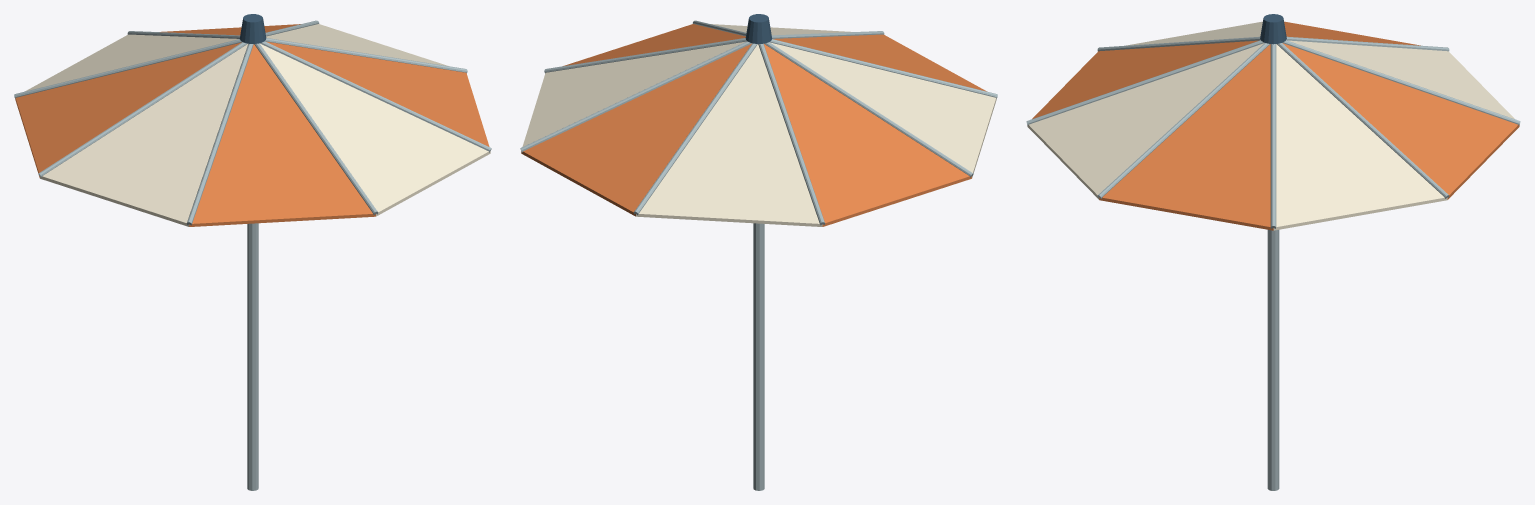
Rendered from harbor-and-tackle-fishing-umbrella-53ccf80c.glb.
3 views of the same model, side by side, from view 1: azimuth 30°, elevation 25°; view 2: azimuth 150°, elevation 25°; view 3: azimuth 270°, elevation 25° (orthographic).
Parts seen in each view (by area): view 1: ivory, orange, metal, navy; view 2: orange, ivory, metal, navy; view 3: orange, ivory, metal, navy.
Part boxes in pixels (x1,y1,x2,y2): ivory: (25, 24, 490, 226); orange: (15, 24, 489, 226); metal: (14, 20, 491, 490); navy: (239, 14, 266, 43); orange: (521, 24, 986, 226); ivory: (522, 24, 996, 226); metal: (520, 20, 997, 490); navy: (745, 14, 772, 43); orange: (1032, 21, 1519, 230); ivory: (1027, 21, 1514, 230); metal: (1026, 36, 1520, 490); navy: (1260, 14, 1286, 44).
Size of the model in its own units: 2.21 by 2.32 by 2.21.
